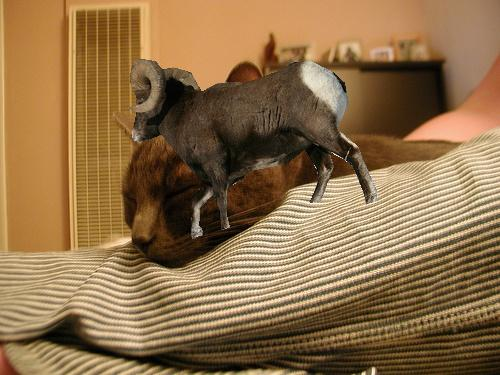tampered: (129, 60, 377, 239)
